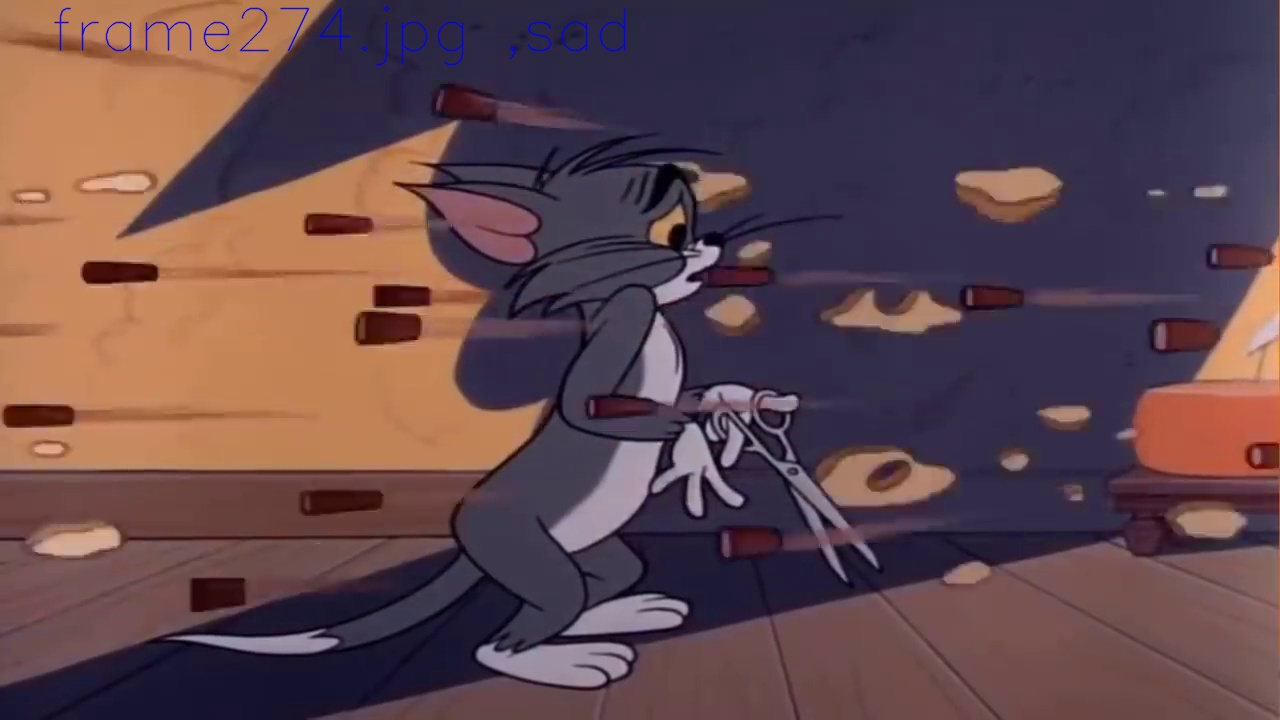sad: (626, 164, 722, 300)
